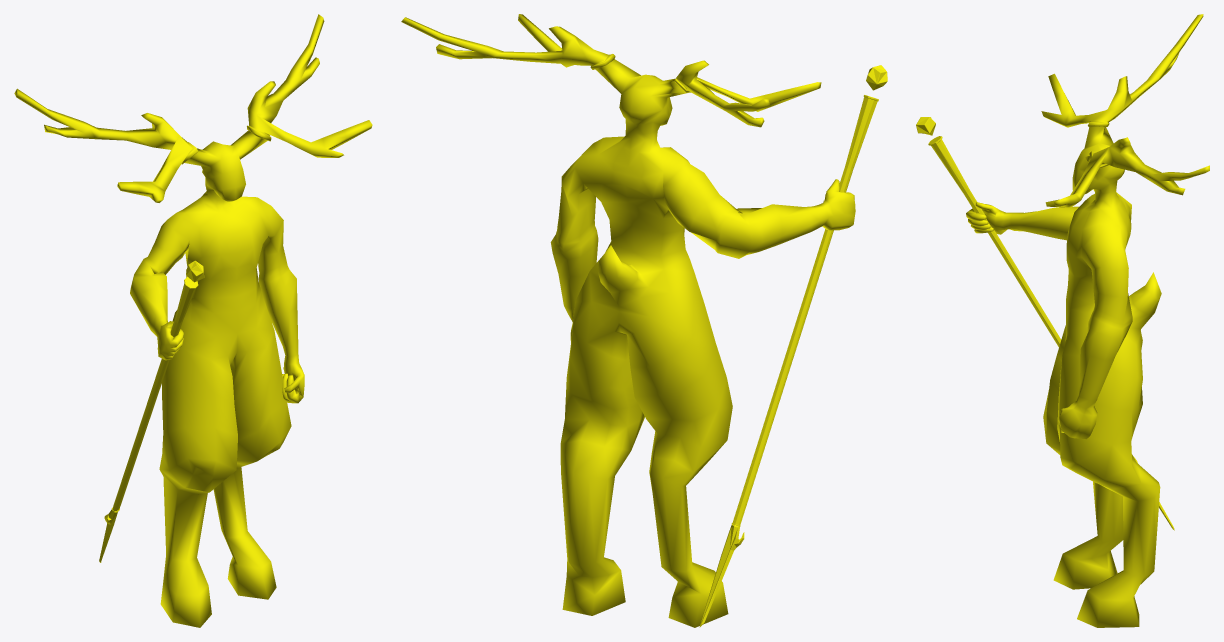
The model's file is bosspose 1.FBX.
3 views of the same model, side by side, from view 1: azimuth 30°, elevation 25°; view 2: azimuth 150°, elevation 25°; view 3: azimuth 270°, elevation 25° (orthographic). The views are drawn at different scales.
Parts seen in each view (by area): view 1: polySurface3; view 2: polySurface3; view 3: polySurface3.
Boxes of the visible parts, <box> form: polySurface3: <box>14,14,372,627</box>; polySurface3: <box>401,14,887,627</box>; polySurface3: <box>916,14,1209,627</box>.
Bounding box in the file's own units: 178 × 281 × 145.
